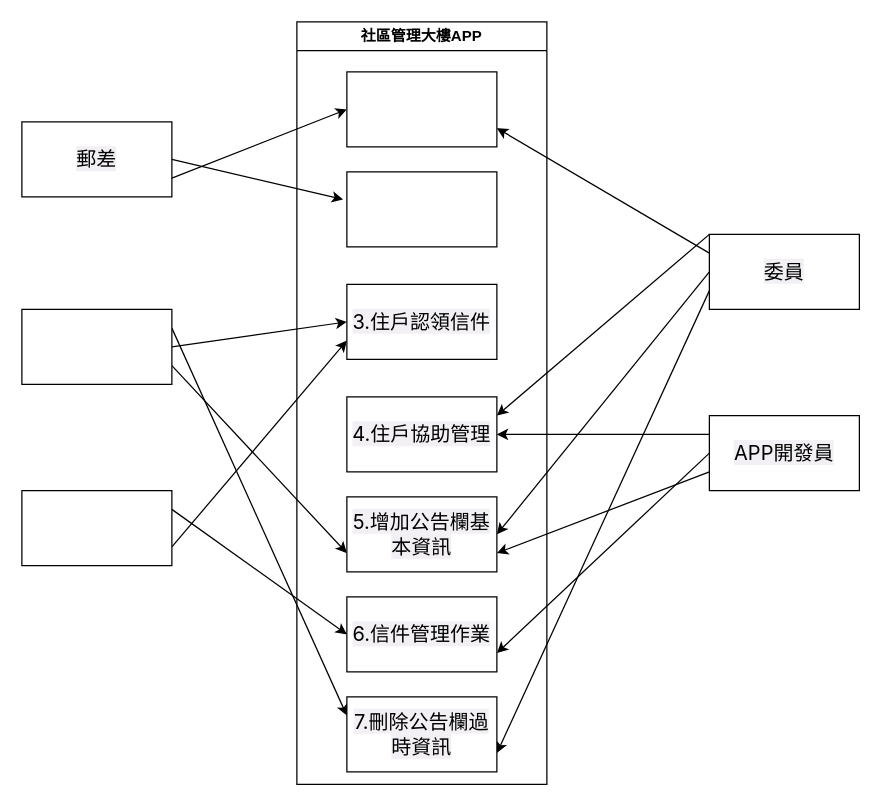
The diagram is 881 pixels wide and 806 high, and some of its shapes have lost their labels. The centre of each missing label's shape, as x and y in pixels:
1.住戶基本資料: pixel 421 109
2.簽收信件作業: pixel 421 209
住戶: pixel 96 527
警衛: pixel 96 346
